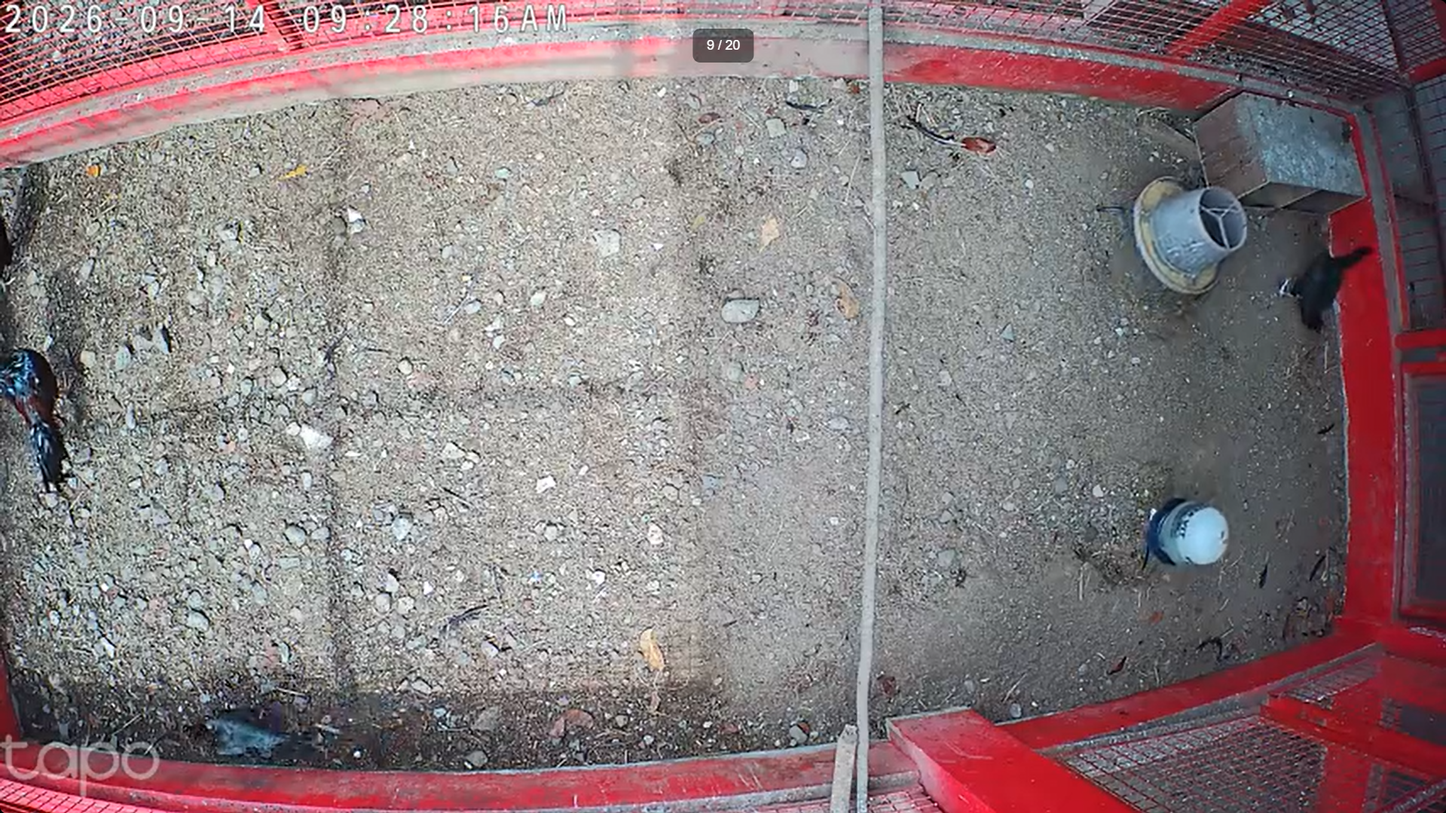Chicken: (1278, 242, 1377, 335)
